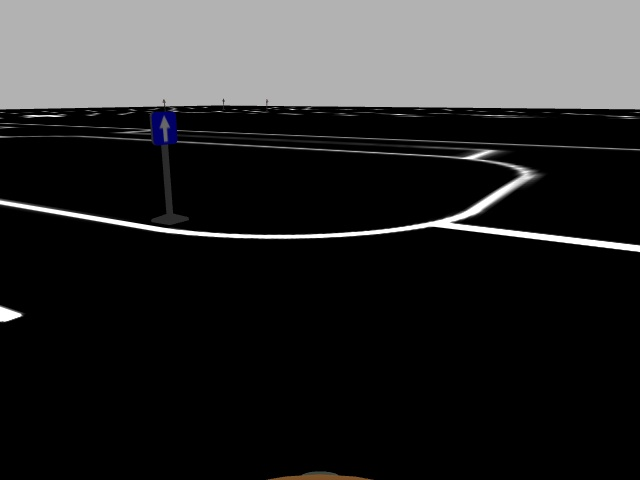oneway: (147, 109, 179, 150)
